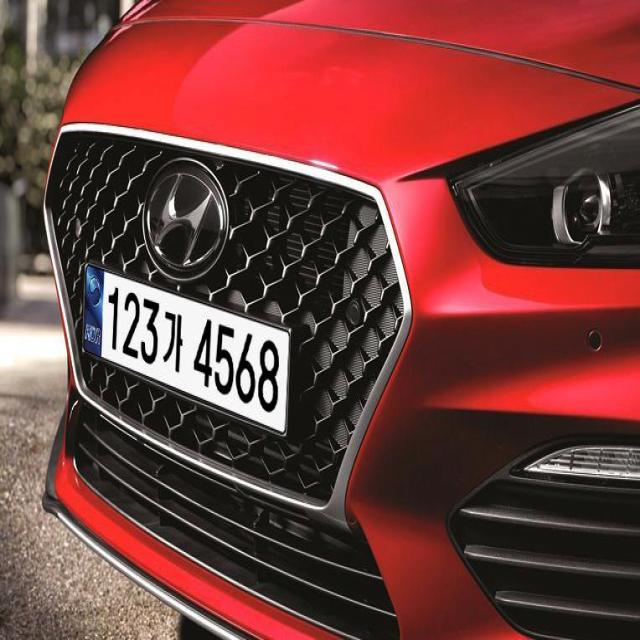illegal_plate: (78, 260, 293, 445)
